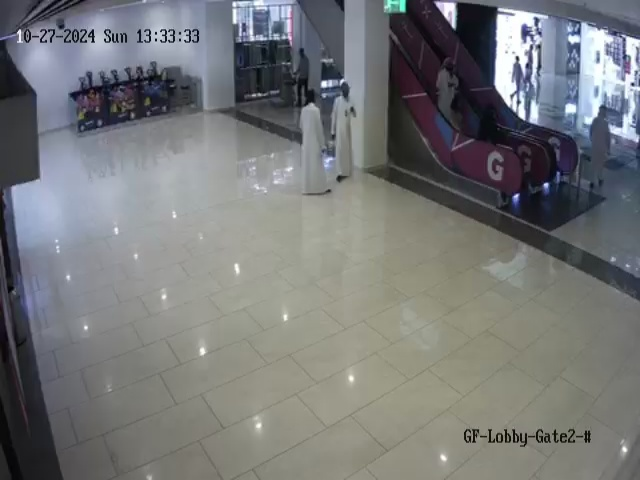male: (299, 88, 331, 196), (431, 51, 466, 136), (330, 81, 357, 183), (589, 105, 611, 190), (292, 48, 310, 108), (510, 51, 523, 103)
